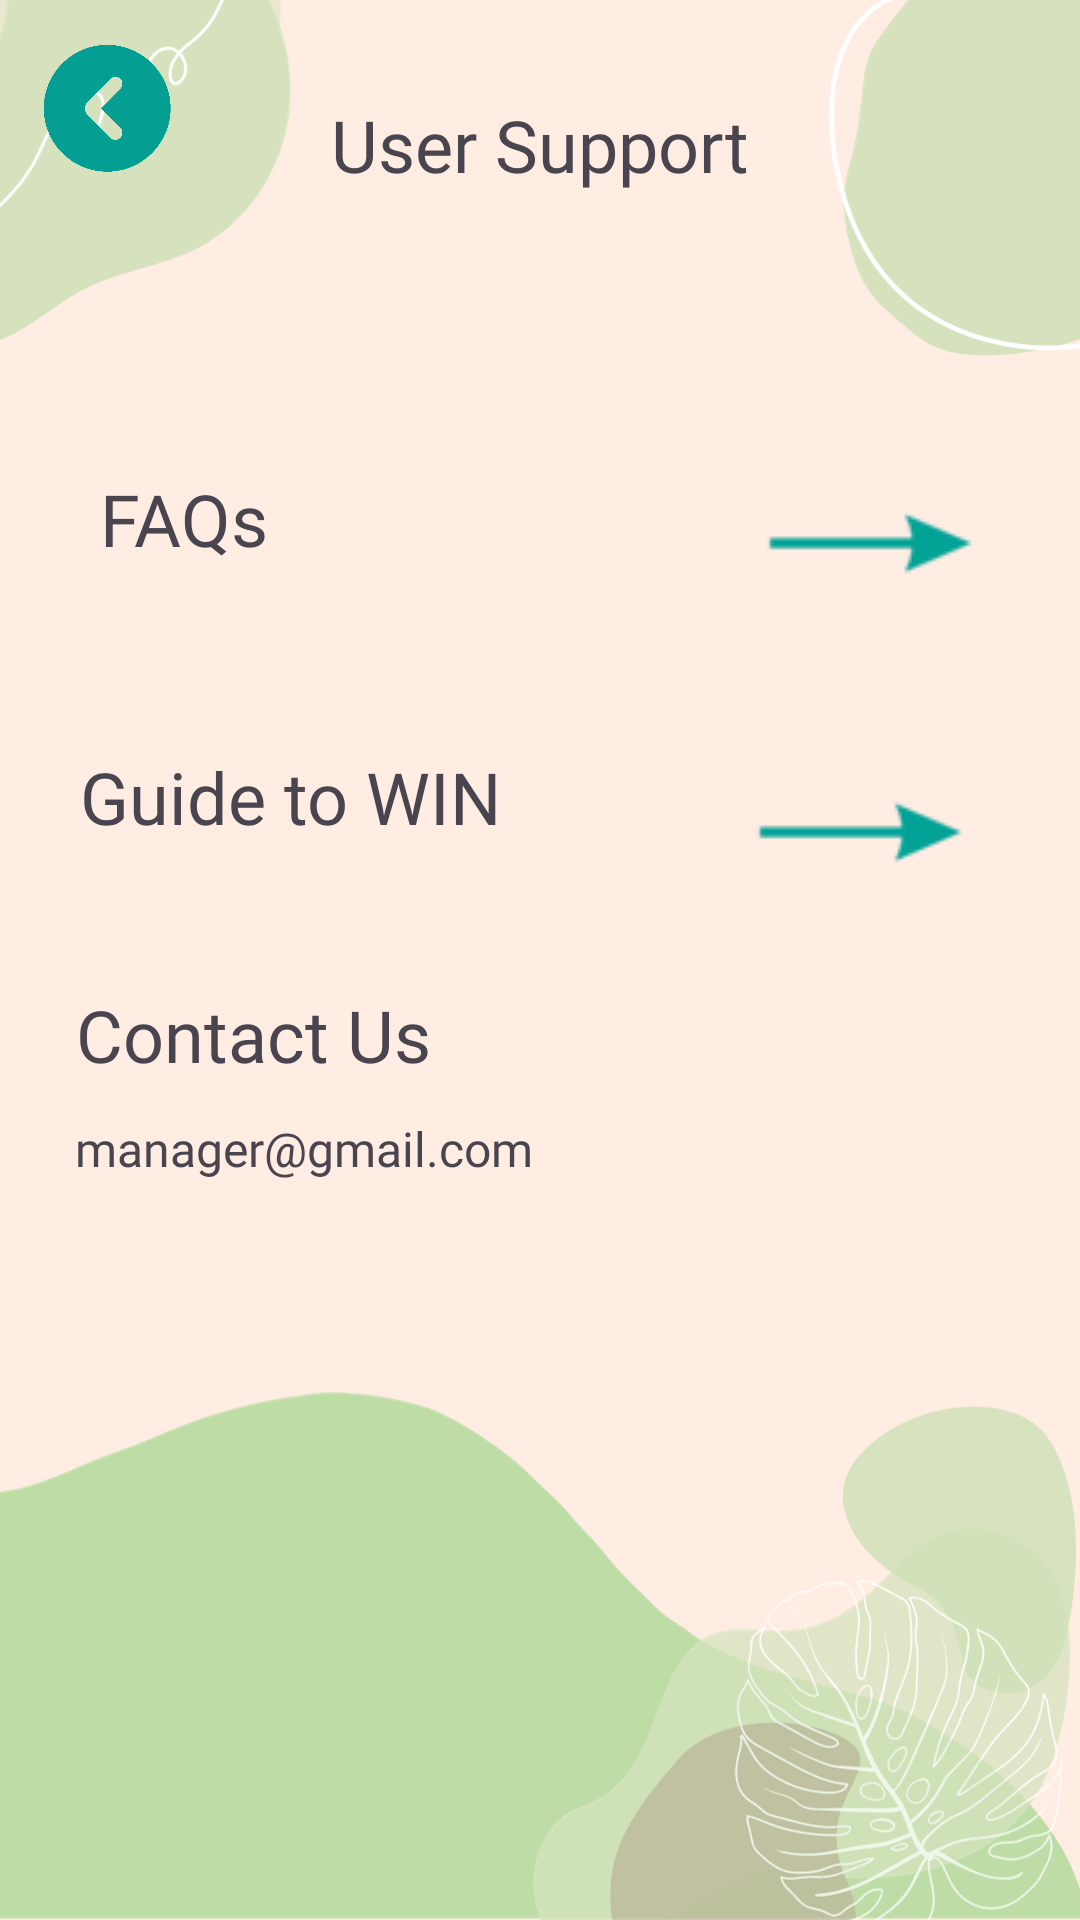

Icons on this 1080 x 1920 Android screen, each with the point to tap as (x,y):
backicon: (107,108)
right arrow: (869,543), (860,832)
